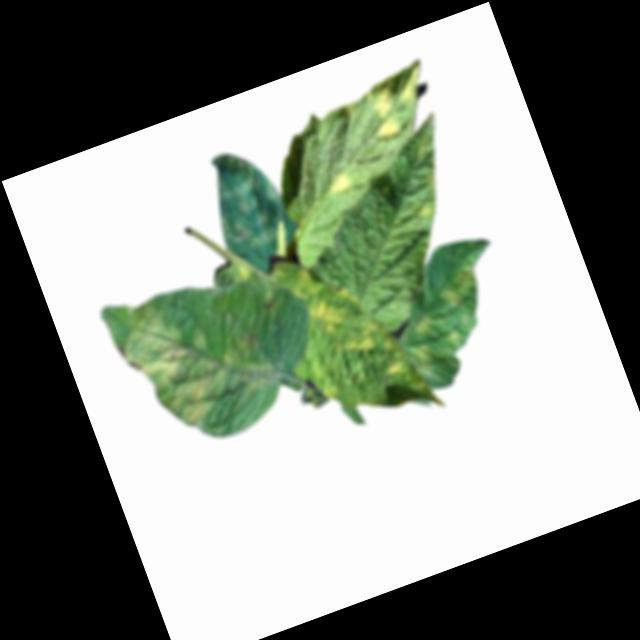Leaf_Mold: (106, 263, 284, 442), (387, 257, 509, 384), (191, 136, 299, 258), (355, 59, 440, 143), (303, 282, 368, 339), (334, 316, 388, 360), (321, 169, 356, 202), (407, 196, 439, 231), (378, 355, 410, 382)
